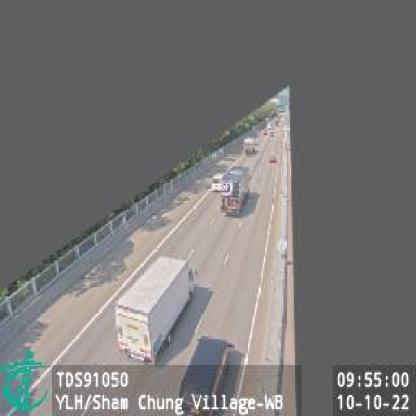Car: (178, 334, 234, 409), (212, 171, 226, 194), (271, 152, 279, 162)
Truck: (117, 254, 192, 369), (223, 166, 251, 215), (244, 135, 257, 155)
